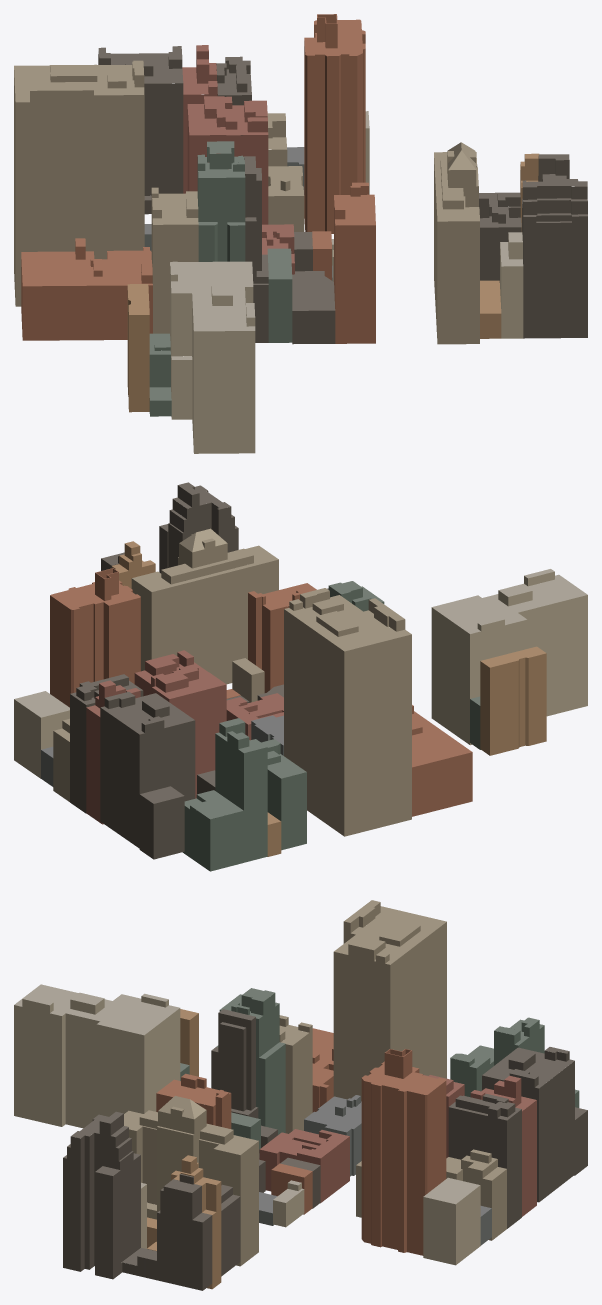
The model's file is tile-5_-6.glb.
3 views of the same model, one above another, from view 1: azimuth 30°, elevation 25°; view 2: azimuth 150°, elevation 25°; view 3: azimuth 270°, elevation 25° (orthographic). The views are drawn at different scales.
Parts seen in each view (by area): view 1: wall, roof; view 2: wall, roof; view 3: wall, roof.
Part boxes in pixels (x1,y1,x2,y2): wall: (14, 14, 587, 453); roof: (14, 14, 587, 400); wall: (14, 485, 587, 871); roof: (14, 482, 587, 824); wall: (14, 902, 587, 1290); roof: (14, 900, 587, 1265).
Size of the model in its own units: 203 by 91 by 232.
